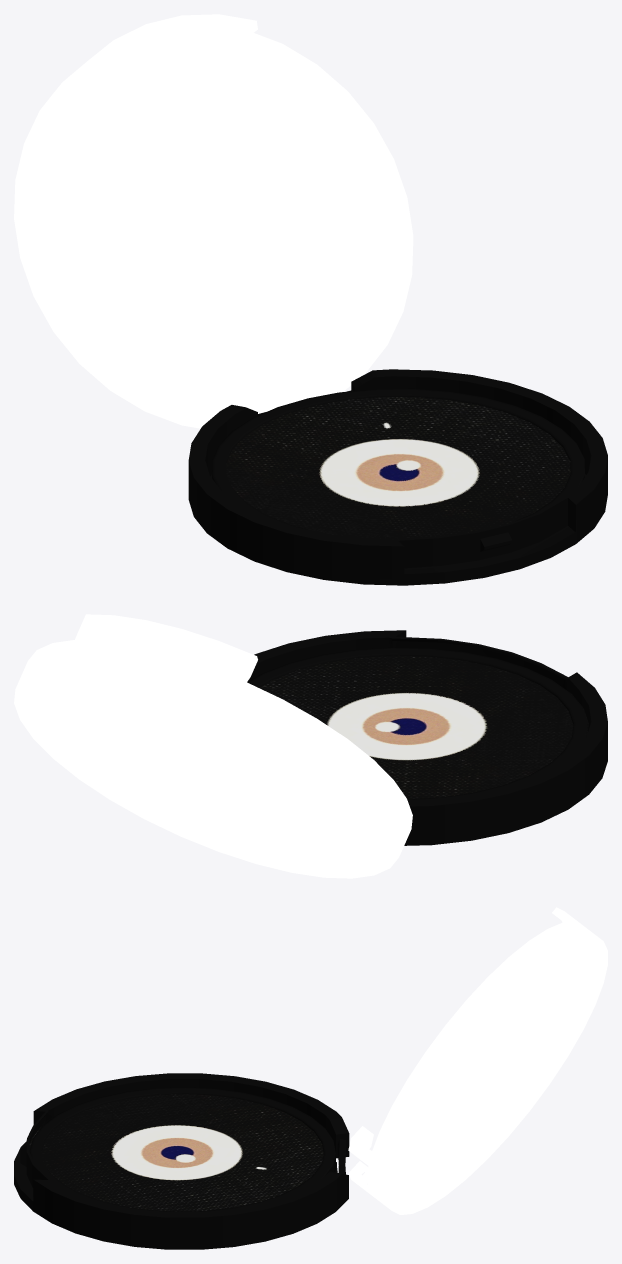
File: asset.gltf
The picture shows the model from 3 angles, top to bottom: view 1: azimuth 30°, elevation 25°; view 2: azimuth 150°, elevation 25°; view 3: azimuth 270°, elevation 25°; orthographic projection. The views are drawn at different scales.
Parts seen in each view (by area): view 1: Lid, Eye, Base, Eye Holder; view 2: Lid, Eye, Base, Eye Holder; view 3: Lid, Eye, Base, Eye Holder.
Part boxes in pixels (bbox=[...]): Lid: bbox=[14, 14, 413, 428]; Eye: bbox=[226, 397, 570, 540]; Base: bbox=[188, 369, 607, 585]; Eye Holder: bbox=[212, 388, 584, 529]; Lid: bbox=[14, 614, 412, 878]; Eye: bbox=[259, 655, 588, 799]; Base: bbox=[247, 630, 607, 845]; Eye Holder: bbox=[247, 647, 587, 799]; Lid: bbox=[348, 907, 607, 1214]; Eye: bbox=[29, 1094, 323, 1211]; Base: bbox=[14, 1073, 349, 1249]; Eye Holder: bbox=[29, 1087, 337, 1211].
Bounding box in the file's own units: 9.14 × 7.85 × 15.86.
4 materials, 1 textured.
